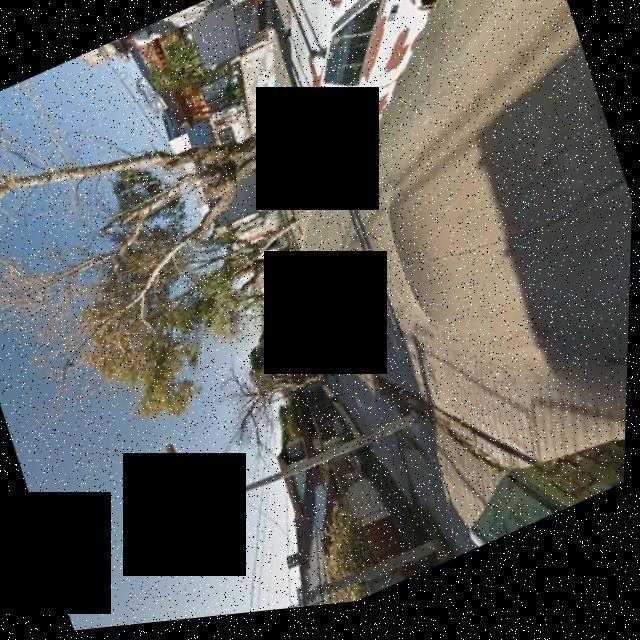bin: (432, 372, 630, 568)
